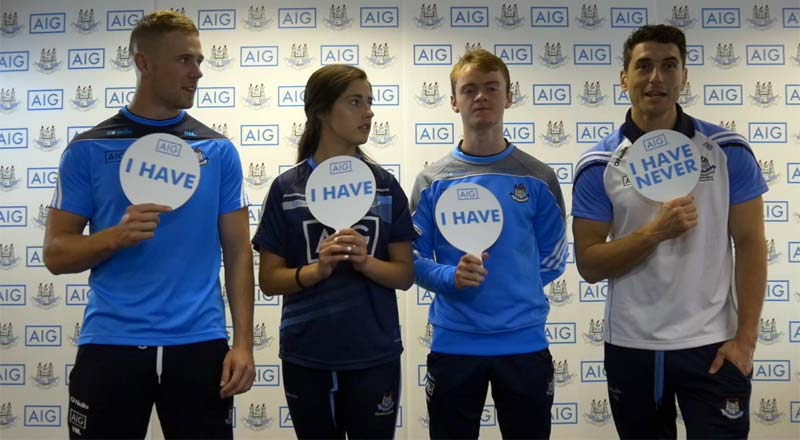player: (578, 29, 769, 403), (77, 13, 249, 423), (401, 43, 566, 407), (257, 54, 405, 415)
